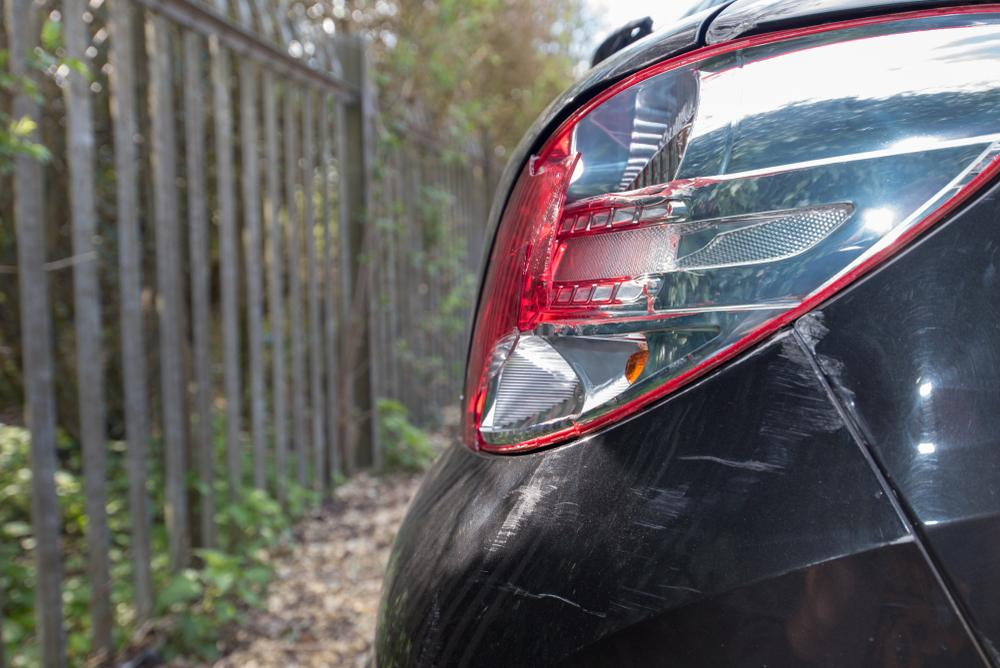lamp broken: (463, 0, 1000, 454)
scratch: (480, 333, 843, 615), (793, 310, 860, 409)
